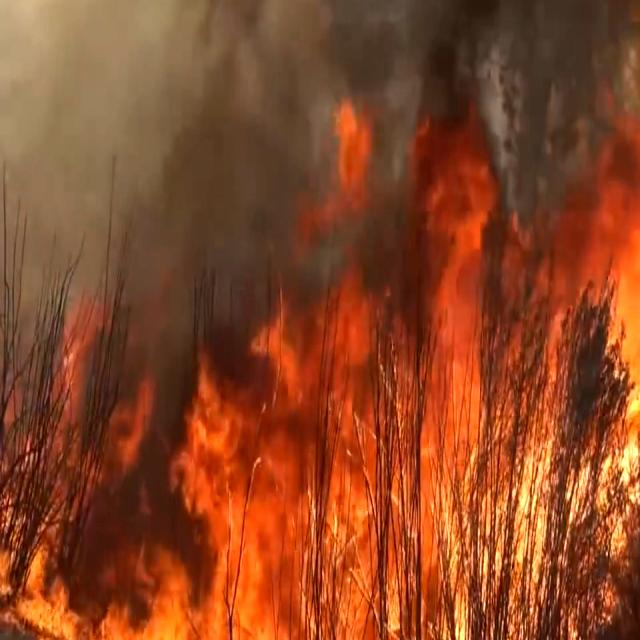fire: (402, 112, 640, 445), (83, 326, 302, 640), (316, 288, 410, 640)
smoke: (0, 0, 429, 205)
